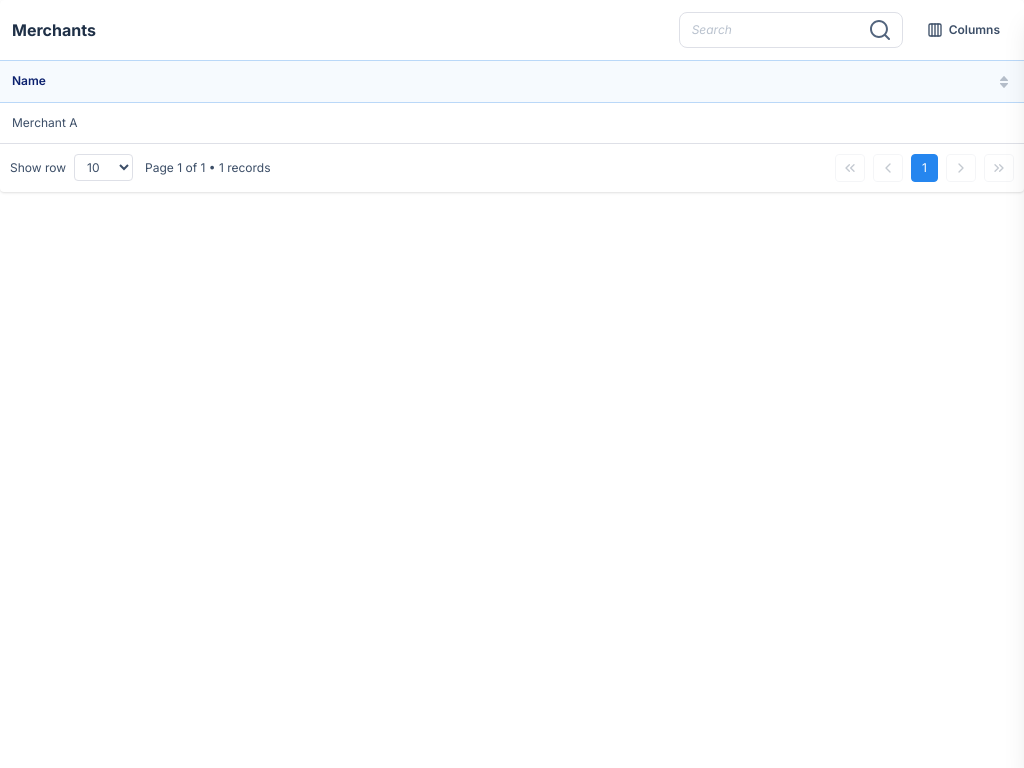
Test: GenericTable — columns drawer › hides an applied column from the grid
Expected: the text "Merchant A" is shown, 0,102 -> 1023,143
Click the button "Columns".
click(963, 30)  # box 915,12 -> 1012,48
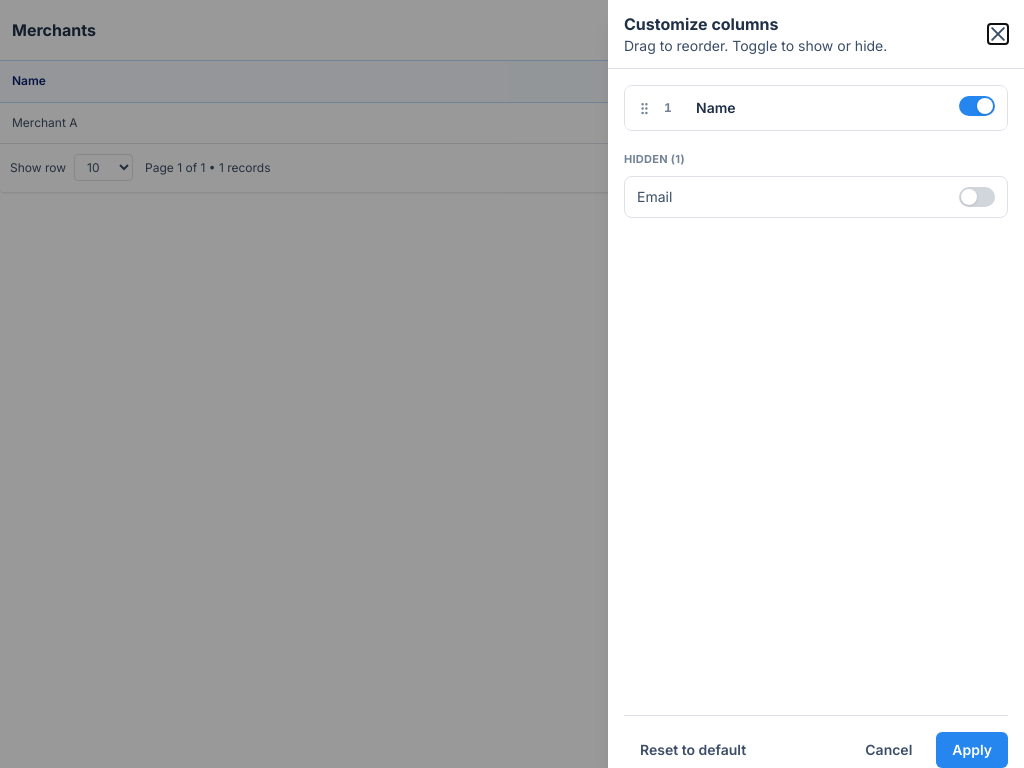
Click the switch named "Show Email".
click(977, 196)  # box 959,186 -> 995,206
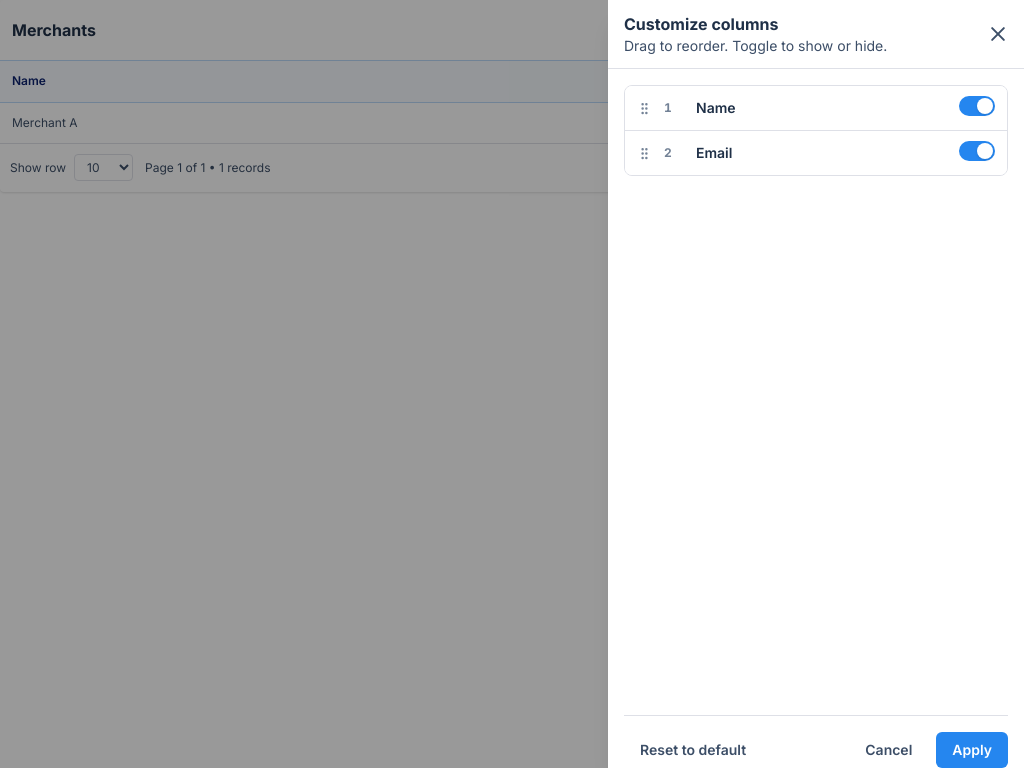
Click the switch named "Hide Name".
click(977, 106)  # box 959,96 -> 995,116
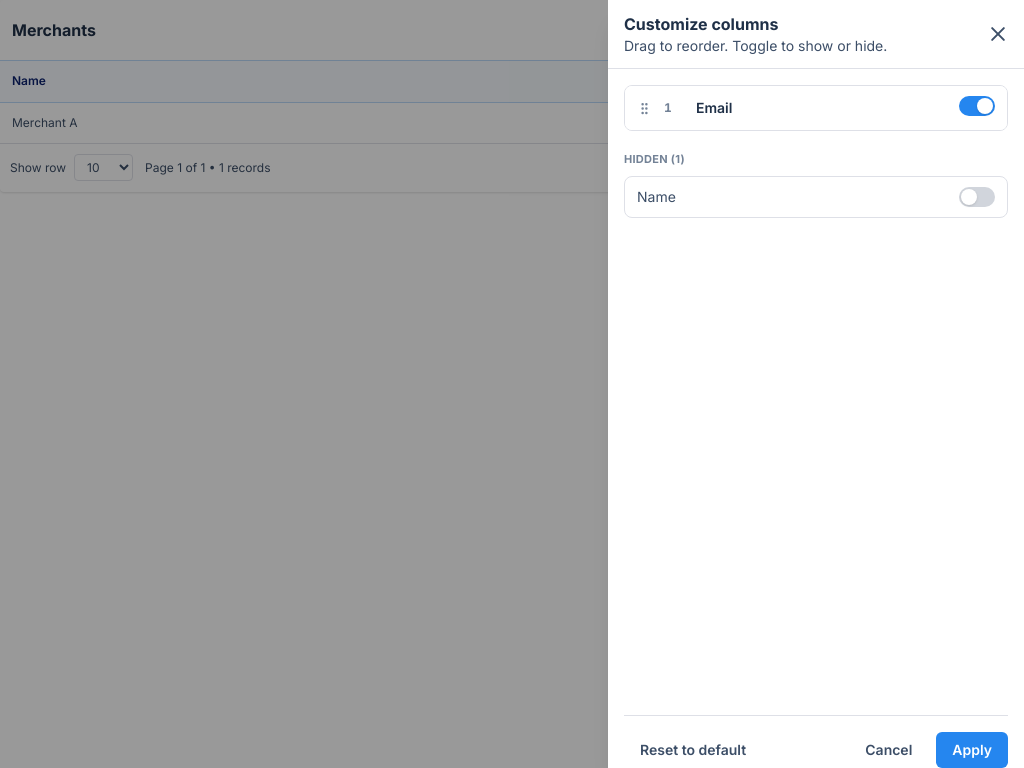
Click the button "Apply".
click(972, 750)  # box 936,732 -> 1008,767
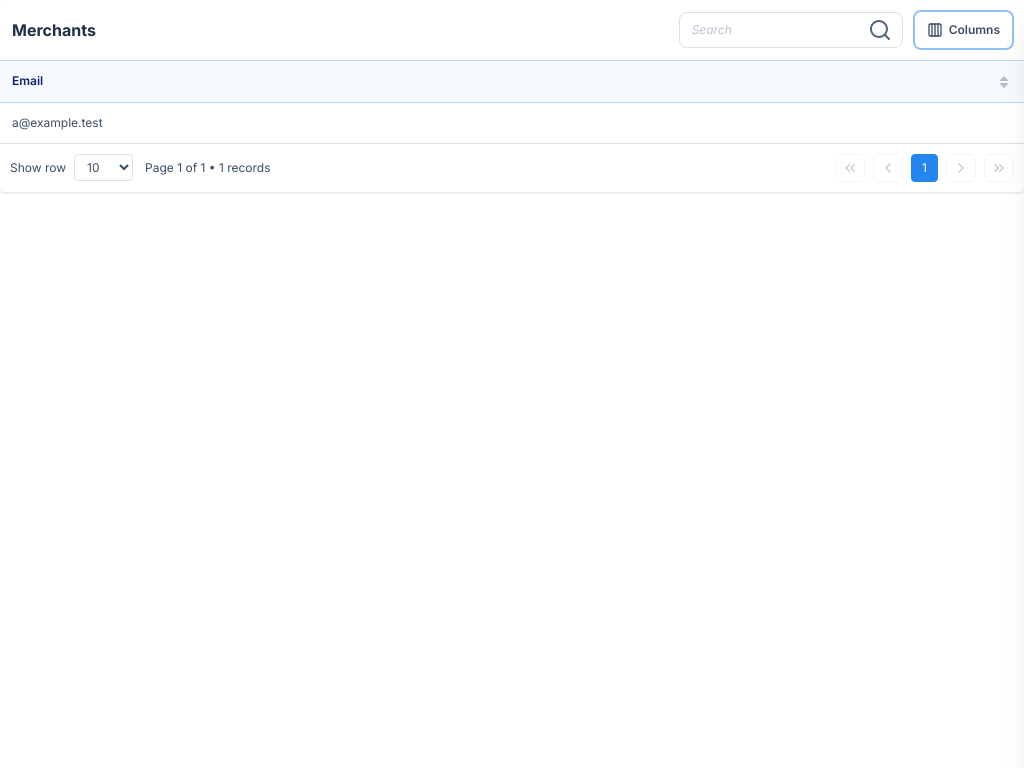
Expected: the column heading "Name" is not shown
Expected: the column heading "Email" is shown, 0,60 -> 1023,102
